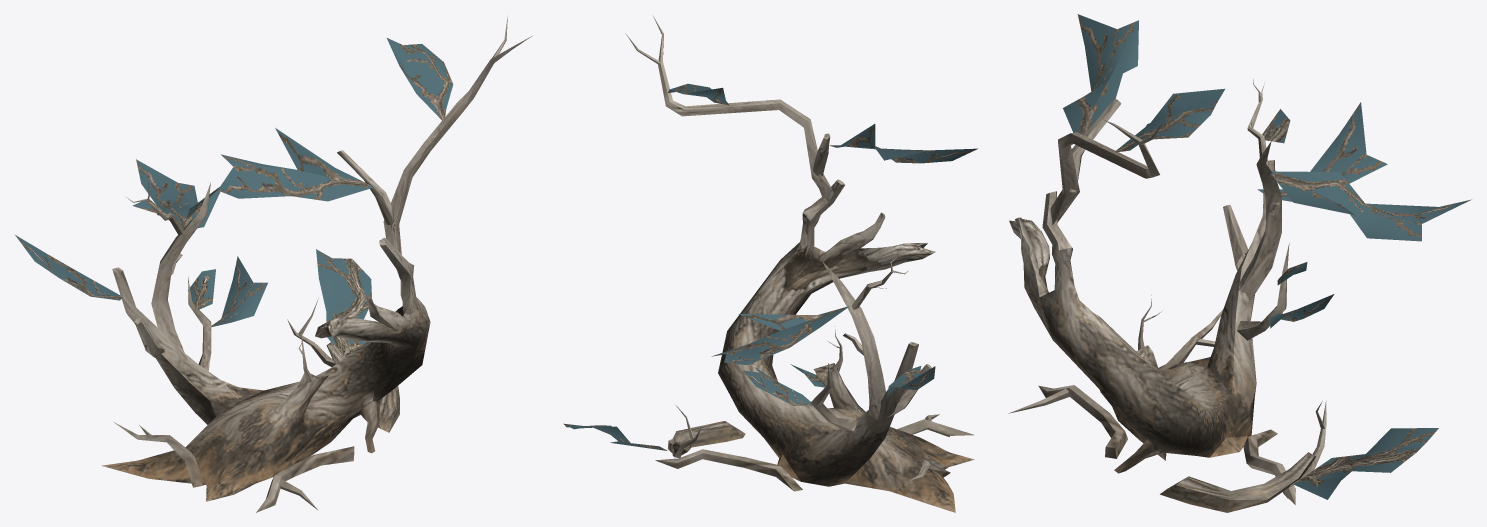
The model's file is xsm_shu_3.FBX.
3 renders of one model, left to right at view 1: azimuth 30°, elevation 25°; view 2: azimuth 150°, elevation 25°; view 3: azimuth 270°, elevation 25°, orthographic. The views are drawn at different scales.
Parts seen in each view (by area): view 1: xsm_shu_3; view 2: xsm_shu_3; view 3: xsm_shu_3.
Boxes of the visible parts, box(x1,y1,x2,y2) form: xsm_shu_3: box(15, 17, 531, 512); xsm_shu_3: box(563, 16, 977, 512); xsm_shu_3: box(1008, 14, 1471, 512).
Size of the model in its own units: 548 by 502 by 475.
